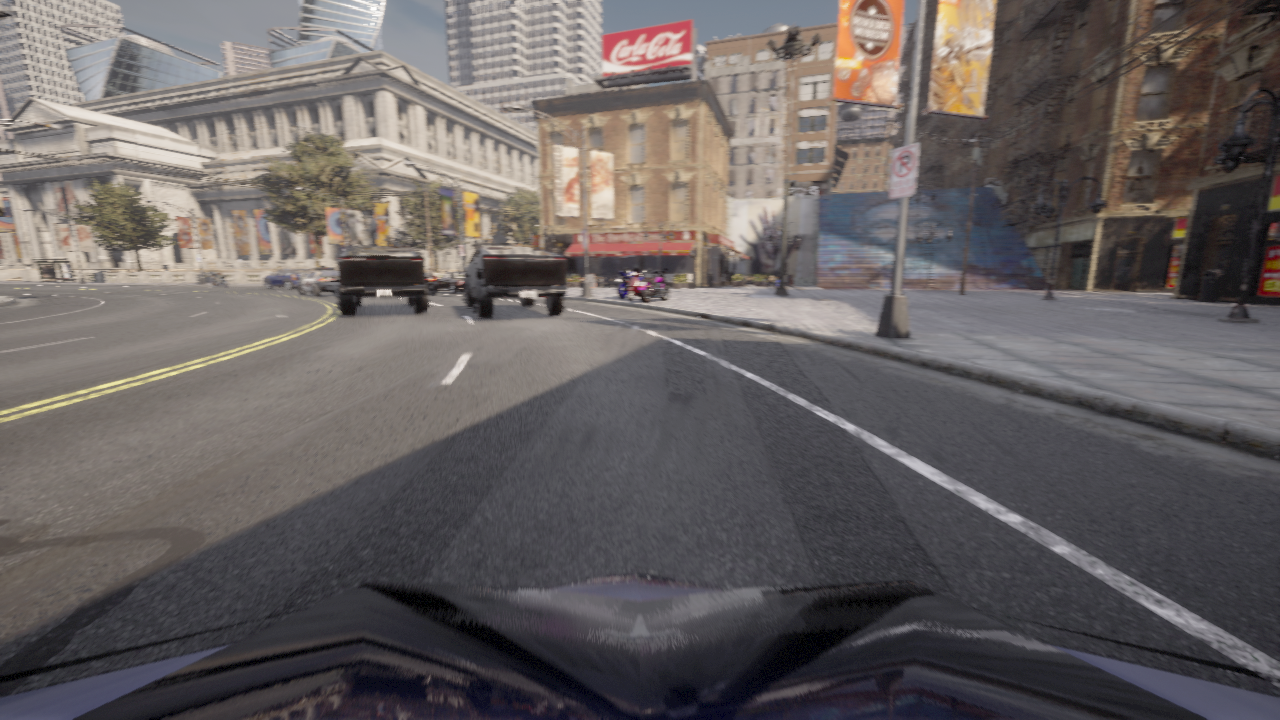cyclist: (0, 569, 1279, 719), (461, 244, 566, 317), (334, 246, 431, 315), (297, 268, 338, 296), (639, 268, 670, 302), (263, 268, 310, 289), (614, 269, 644, 298), (436, 272, 464, 293), (627, 270, 645, 300), (208, 273, 230, 287), (424, 273, 437, 294), (424, 271, 438, 278), (774, 275, 779, 290)
